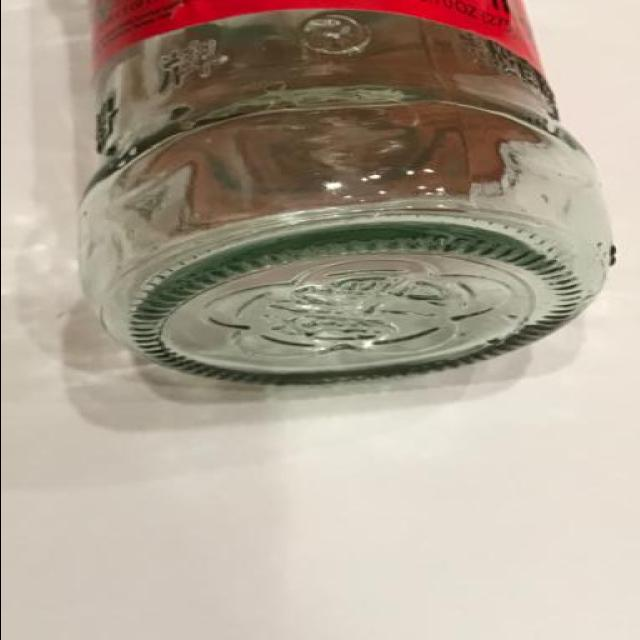litter: (90, 0, 616, 385)
